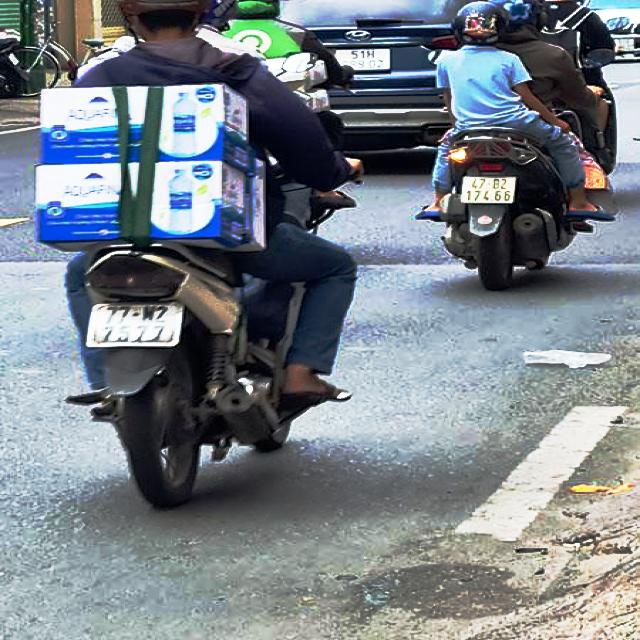license_plate: (87, 305, 182, 348), (462, 177, 518, 204)
